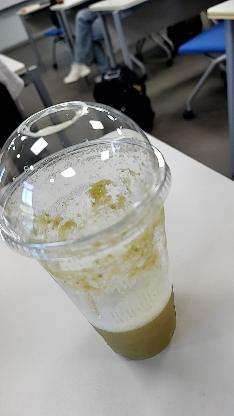Plastic Cup: (1, 102, 180, 364), (0, 101, 184, 260)
